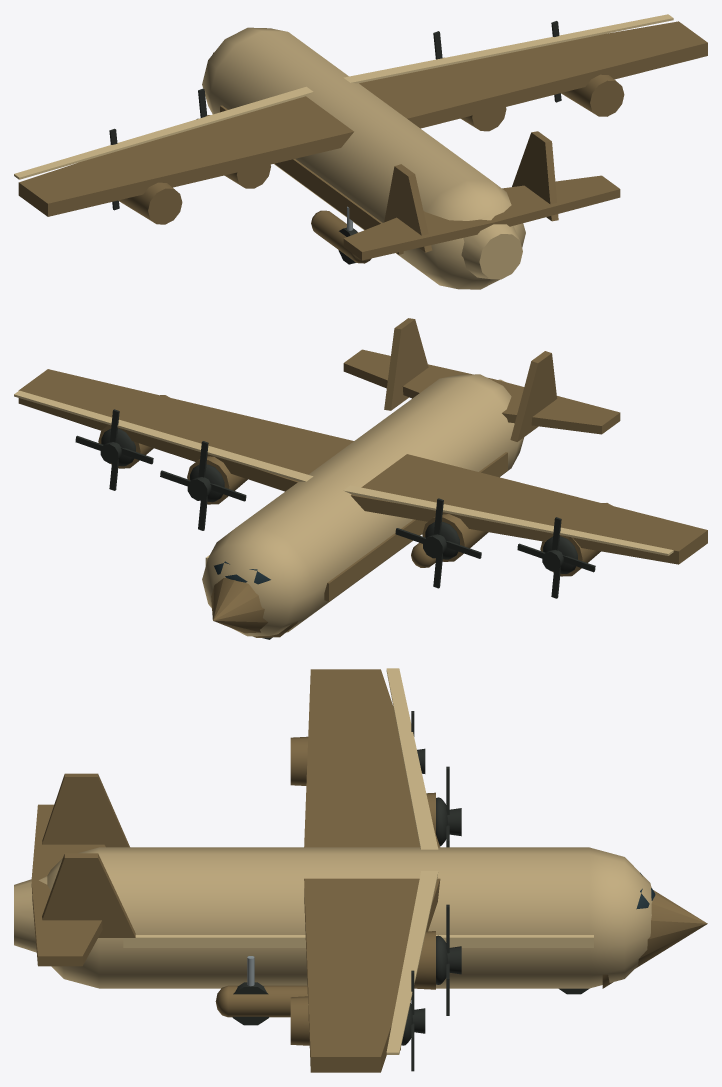
The model's file is cargo.glb.
3 views of the same model, one above another, from view 1: azimuth 30°, elevation 25°; view 2: azimuth 150°, elevation 25°; view 3: azimuth 270°, elevation 25° (orthographic). The views are drawn at different scales.
Parts seen in each view (by area): view 1: AC_LIVERY_PRIMARY, AC_LIVERY_BASE, AC_LIVERY_ACCENT; view 2: AC_LIVERY_PRIMARY, AC_LIVERY_BASE, AC_LIVERY_ACCENT, AC_DARK, Propeller_3_Blades, Propeller_2_Blades, Propeller_1_Blades, Propeller_4_Blades; view 3: AC_LIVERY_BASE, AC_LIVERY_PRIMARY, AC_LIVERY_ACCENT, AC_DARK, Propeller_3_Blades, Propeller_4_Blades, Propeller_2_Blades.
Part boxes in pixels (x1,y1,x2,y2): AC_LIVERY_PRIMARY: (18,21,707,263); AC_LIVERY_BASE: (202,27,525,289); AC_LIVERY_ACCENT: (14,14,673,179); AC_LIVERY_PRIMARY: (18,318,707,637); AC_LIVERY_BASE: (202,374,523,636); AC_LIVERY_ACCENT: (14,390,673,565); AC_DARK: (101,428,577,639); Propeller_3_Blades: (160,441,246,530); Propeller_2_Blades: (395,498,481,588); Propeller_1_Blades: (517,517,595,598); Propeller_4_Blades: (75,409,153,490); AC_LIVERY_BASE: (14,847,652,988); AC_LIVERY_PRIMARY: (31,669,707,1072); AC_LIVERY_ACCENT: (123,668,593,1054); AC_DARK: (232,797,589,1045); Propeller_3_Blades: (446,904,461,1015); Propeller_4_Blades: (411,970,425,1071); Propeller_2_Blades: (446,766,461,847).
Size of the model in its own units: 11.5 by 2.45 by 8.7.
